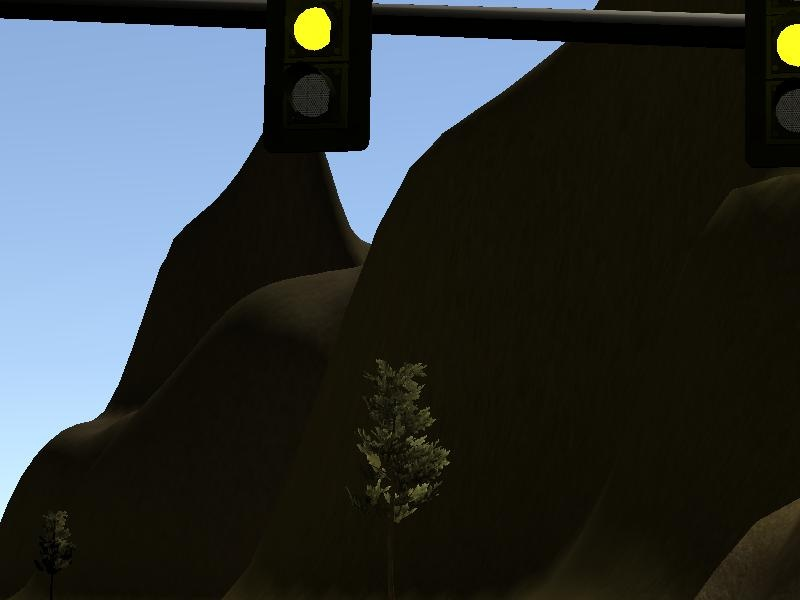yellow: (257, 1, 380, 159), (737, 3, 800, 192)
